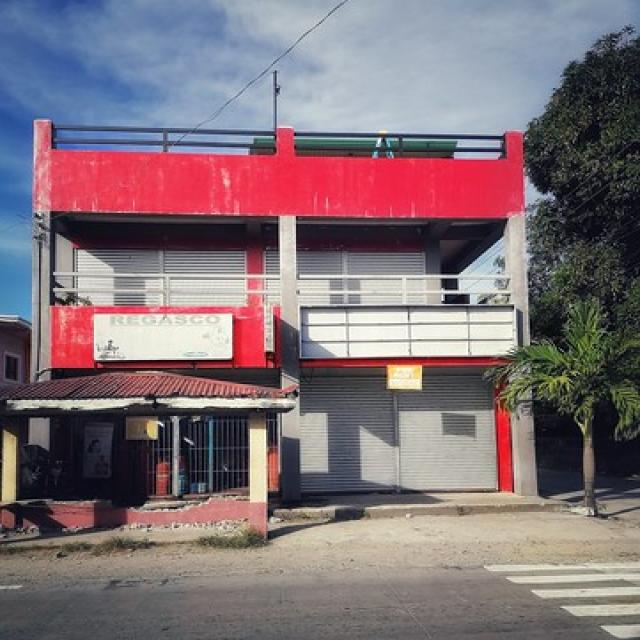building: (10, 113, 542, 545)
